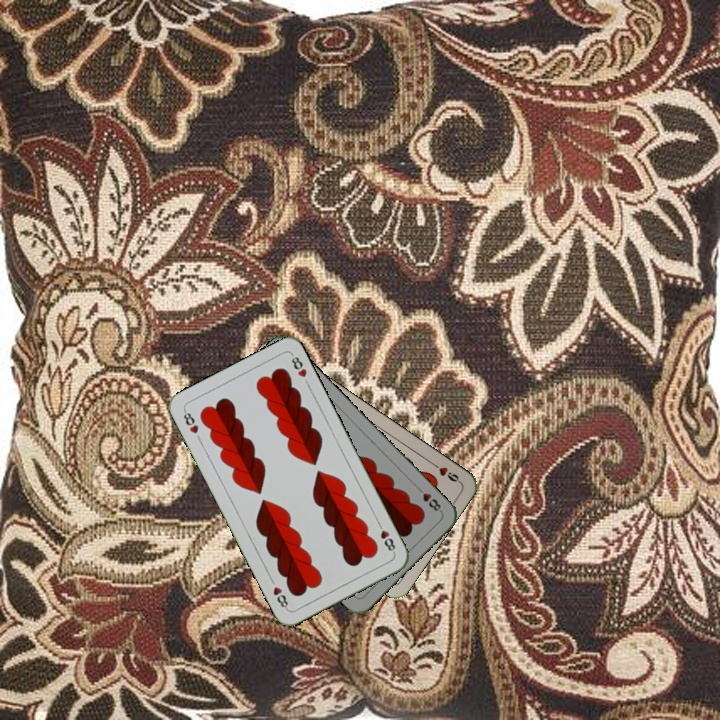H8: (412, 483, 444, 515), (373, 518, 398, 556), (179, 406, 201, 436)
H9: (427, 458, 463, 486)
